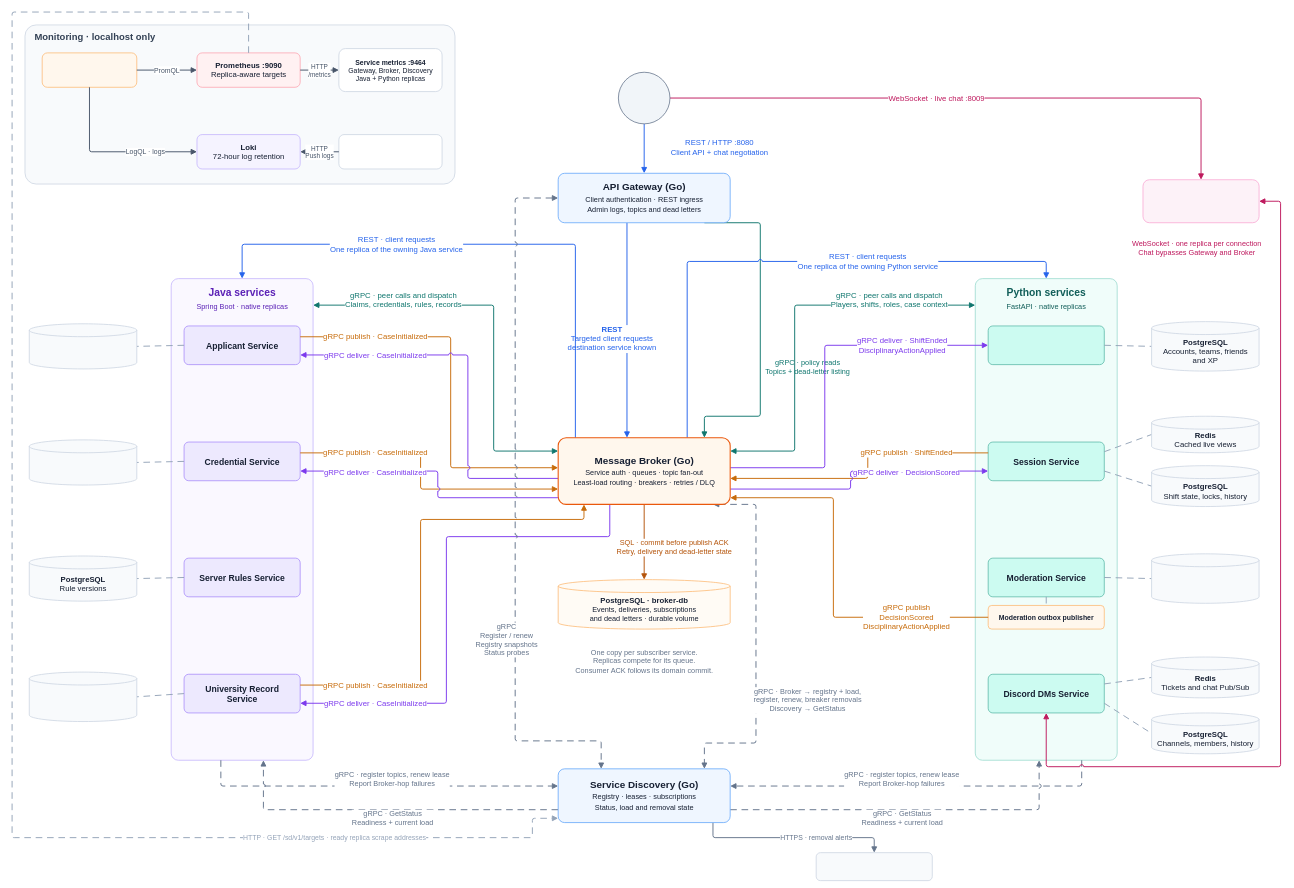
Image size: 1294x888. Some labels were removed from this diagram. The centre of each missing label's shape, as x and y in pixels:
Client: the point at 644,98
Discord webhook: the point at 874,866
DMs proxy (Caddy) WebSocket · least connections: the point at 1200,201
Grafana :3000 Metrics + log dashboards: the point at 89,69
MongoDB Claims and case metadata: the point at 83,346
MongoDB Credentials and validations: the point at 83,462
MongoDB University facts and record permissions: the point at 83,696
Player Service: the point at 1046,345
PostgreSQL Decisions, bans, discipline and outbox: the point at 1205,578
Promtail Read-only Docker log files: the point at 390,151
